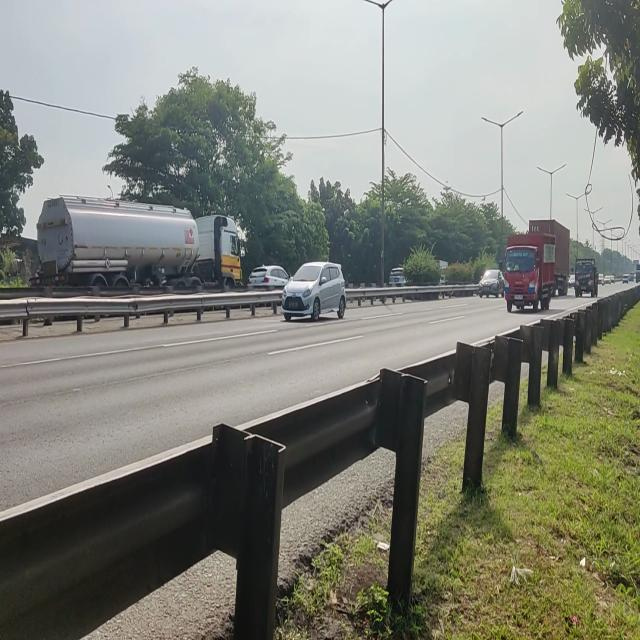Golongan I: (281, 250, 349, 327)
